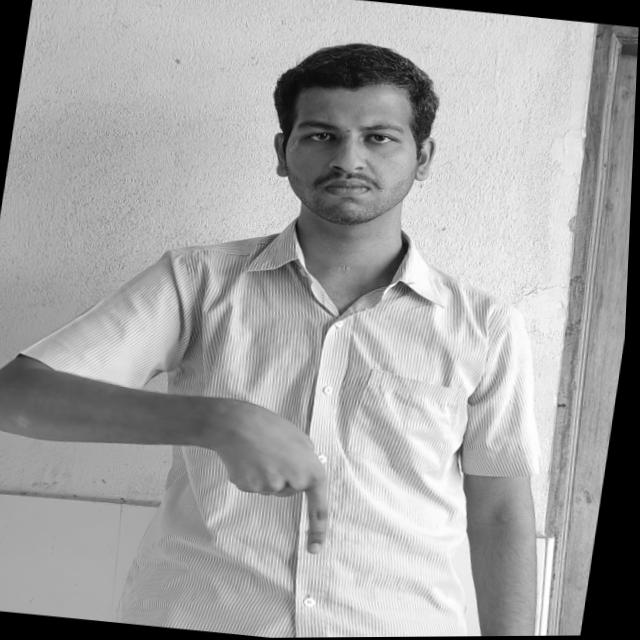Now: (216, 413, 351, 562)
